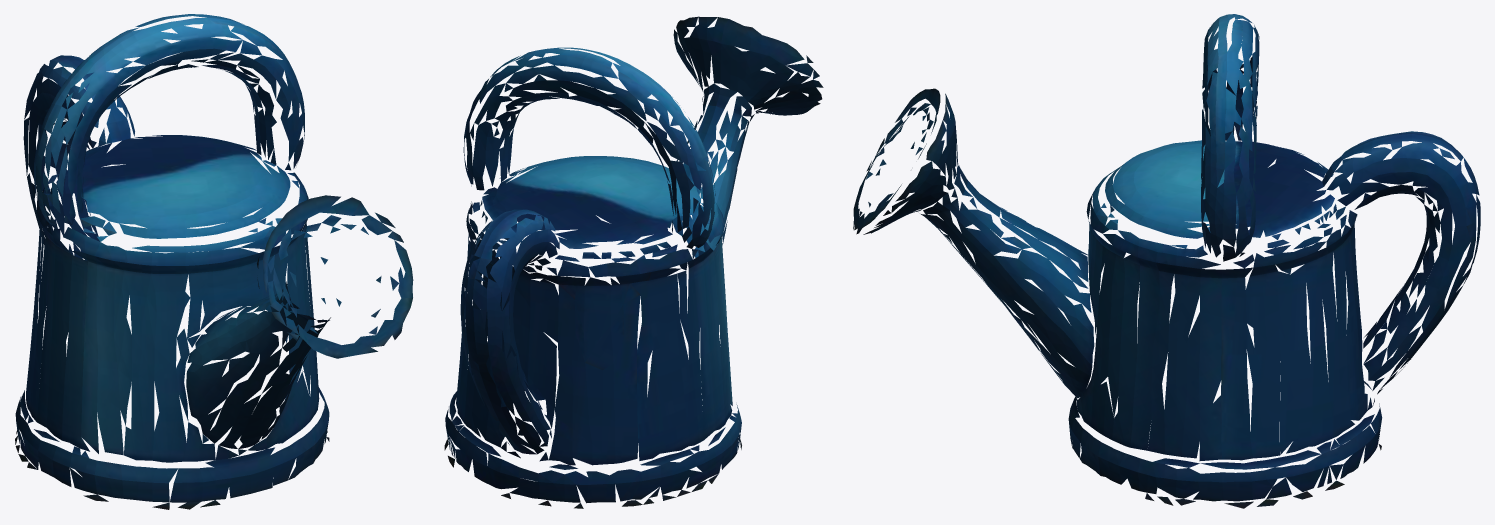
File: watering_can.glb
The picture shows the model from 3 angles, left to right: view 1: azimuth 30°, elevation 25°; view 2: azimuth 150°, elevation 25°; view 3: azimuth 270°, elevation 25°; orthographic projection. The views are drawn at different scales.
Parts seen in each view (by area): view 1: world; view 2: world; view 3: world.
Boxes of the visible parts, x1,y1,x2,y2 form: world: [15, 14, 413, 509]; world: [444, 16, 823, 508]; world: [853, 14, 1480, 508].
Size of the model in its own units: 0.494 by 0.7337 by 1.
1 material, 1 textured.
